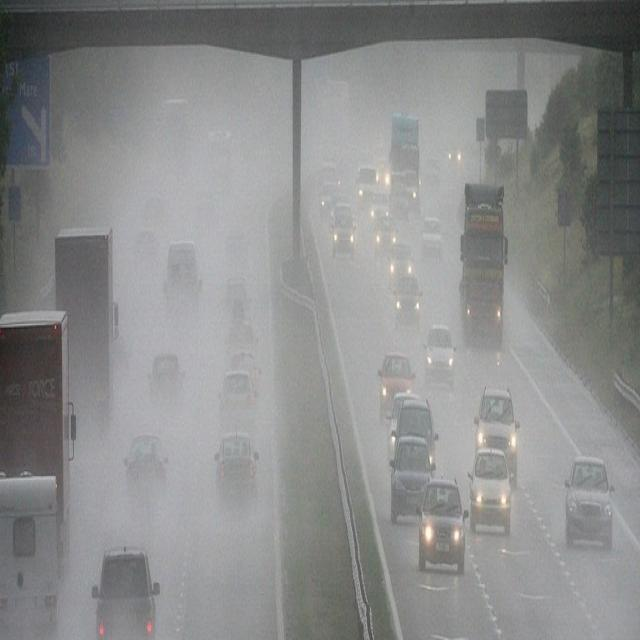bus: (2, 311, 70, 554), (55, 225, 110, 430), (458, 184, 508, 342), (393, 116, 419, 207)
car: (94, 547, 160, 631), (563, 454, 615, 548), (416, 478, 466, 572), (474, 383, 518, 475), (389, 438, 434, 523), (161, 245, 203, 319), (471, 451, 511, 528), (122, 441, 172, 502), (213, 432, 257, 499), (145, 352, 187, 409), (374, 353, 414, 405), (216, 369, 256, 418), (423, 325, 454, 384), (398, 399, 436, 443), (330, 201, 356, 260), (394, 272, 422, 324), (224, 276, 254, 318), (223, 321, 261, 352), (356, 160, 378, 211), (388, 242, 414, 282), (421, 213, 443, 258), (374, 211, 394, 251), (321, 179, 337, 213)
